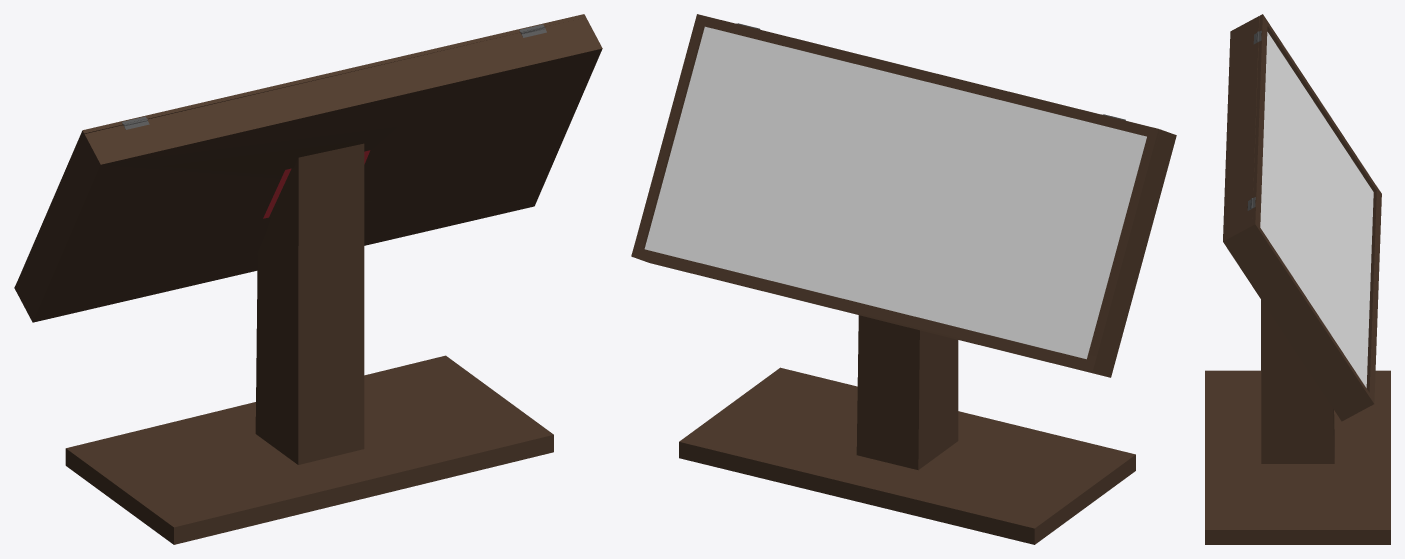
The model's file is showcaseNghieng2.fbx.
3 renders of one model, left to right at view 1: azimuth 30°, elevation 25°; view 2: azimuth 150°, elevation 25°; view 3: azimuth 270°, elevation 25°, orthographic. The views are drawn at different scales.
Visible parts, largest first — view 1: Cube.002, Cube.001; view 2: Cube.002, Cube.001; view 3: Cube.002, Cube.001.
Boxes of the visible parts, x1,y1,x2,y2 form: Cube.002: (14,14,602,322); Cube.001: (65,143,553,544); Cube.002: (631,14,1176,377); Cube.001: (679,315,1135,544); Cube.002: (1223,14,1381,421); Cube.001: (1205,300,1390,544).
Bounding box in the file's own units: 1598 × 1310 × 600.
